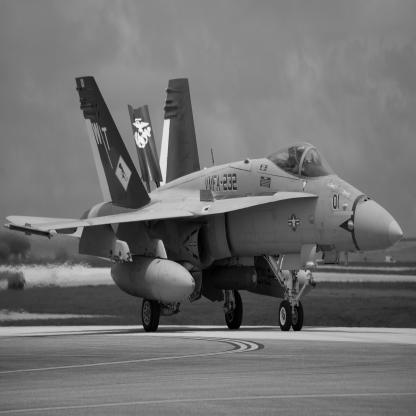F18: (4, 77, 404, 334)
